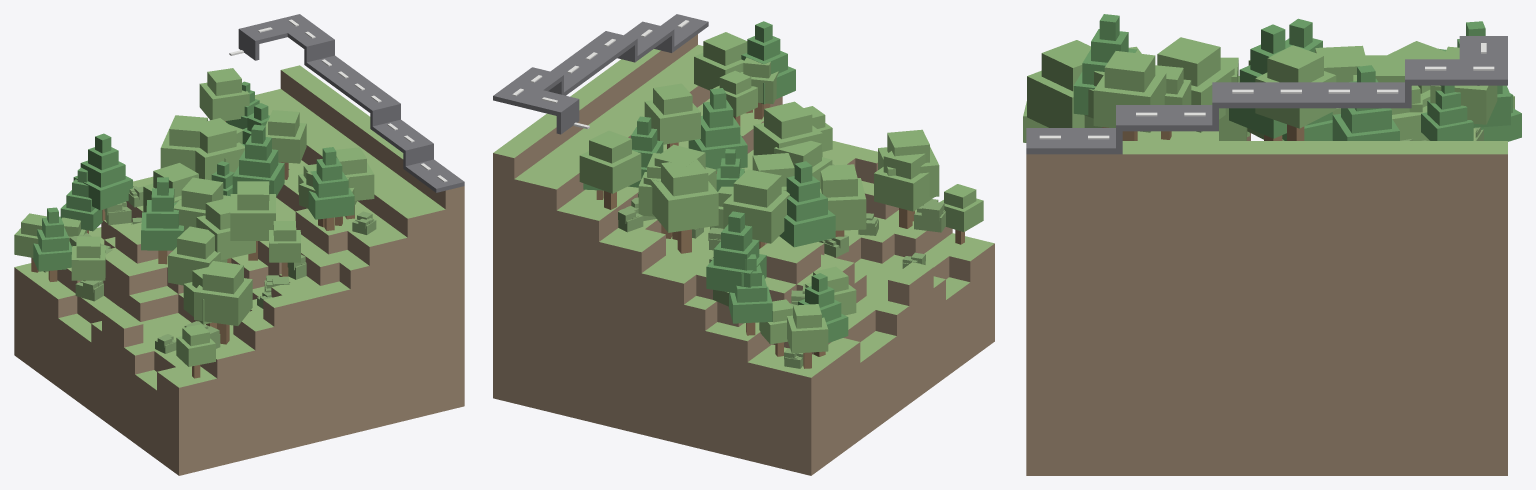
Rendered from block_10_riparian_100.glb.
The picture shows the model from 3 angles, left to right: view 1: azimuth 30°, elevation 25°; view 2: azimuth 150°, elevation 25°; view 3: azimuth 270°, elevation 25°; orthographic projection. The views are drawn at different scales.
Parts seen in each view (by area): view 1: Patch_LowerLeft_b10_RP, Roads_LowerLeft_b10_RP, RP_Veg_10_020, RP_Veg_10_038, RP_Veg_10_041, RP_Veg_10_050, RP_Veg_10_014, RP_Veg_10_030, RP_Veg_10_023, RP_Veg_10_026, RP_Veg_10_008, RP_Veg_10_047 (+18 smaller); view 2: Patch_LowerLeft_b10_RP, Roads_LowerLeft_b10_RP, RP_Veg_10_015, RP_Veg_10_032, RP_Veg_10_026, RP_Veg_10_014, RP_Veg_10_041, RP_Veg_10_004, RP_Veg_10_030, RP_Veg_10_003, RP_Veg_10_038, RP_Veg_10_008 (+20 smaller); view 3: Patch_LowerLeft_b10_RP, Roads_LowerLeft_b10_RP, RP_Veg_10_020, RP_Veg_10_012, RP_Veg_10_003, RP_Veg_10_038, RP_Veg_10_030, RP_Veg_10_040, RP_Veg_10_050, RP_Veg_10_017, RP_Veg_10_026, RP_Veg_10_032 (+10 smaller).
Part boxes in pixels (x1=…): Patch_LowerLeft_b10_RP: x1=14, y1=65, x2=464, y2=475; Roads_LowerLeft_b10_RP: x1=238, y1=14, x2=464, y2=192; RP_Veg_10_020: x1=194, y1=261, x2=252, y2=344; RP_Veg_10_038: x1=230, y1=181, x2=275, y2=260; RP_Veg_10_041: x1=73, y1=133, x2=132, y2=220; RP_Veg_10_050: x1=308, y1=147, x2=354, y2=230; RP_Veg_10_014: x1=141, y1=177, x2=183, y2=264; RP_Veg_10_030: x1=232, y1=124, x2=284, y2=196; RP_Veg_10_023: x1=191, y1=118, x2=244, y2=180; RP_Veg_10_026: x1=199, y1=68, x2=249, y2=121; RP_Veg_10_008: x1=168, y1=226, x2=227, y2=285; RP_Veg_10_047: x1=32, y1=207, x2=71, y2=281; Patch_LowerLeft_b10_RP: x1=493, y1=34, x2=994, y2=475; Roads_LowerLeft_b10_RP: x1=493, y1=14, x2=708, y2=134; RP_Veg_10_015: x1=650, y1=159, x2=718, y2=253; RP_Veg_10_032: x1=723, y1=169, x2=789, y2=248; RP_Veg_10_026: x1=579, y1=130, x2=641, y2=209; RP_Veg_10_014: x1=779, y1=161, x2=835, y2=247; RP_Veg_10_041: x1=706, y1=211, x2=766, y2=293; RP_Veg_10_004: x1=874, y1=151, x2=934, y2=228; RP_Veg_10_030: x1=688, y1=88, x2=747, y2=173; RP_Veg_10_003: x1=644, y1=83, x2=700, y2=148; RP_Veg_10_038: x1=753, y1=101, x2=822, y2=156; RP_Veg_10_008: x1=820, y1=164, x2=866, y2=236; Patch_LowerLeft_b10_RP: x1=1026, y1=129, x2=1507, y2=475; Roads_LowerLeft_b10_RP: x1=1026, y1=36, x2=1507, y2=154; RP_Veg_10_020: x1=1027, y1=40, x2=1090, y2=127; RP_Veg_10_012: x1=1093, y1=51, x2=1166, y2=140; RP_Veg_10_003: x1=1255, y1=45, x2=1336, y2=140; RP_Veg_10_038: x1=1157, y1=37, x2=1234, y2=132; RP_Veg_10_030: x1=1229, y1=24, x2=1315, y2=140; RP_Veg_10_040: x1=1332, y1=65, x2=1399, y2=140; RP_Veg_10_050: x1=1073, y1=14, x2=1137, y2=127; RP_Veg_10_017: x1=1421, y1=85, x2=1473, y2=140; RP_Veg_10_026: x1=1430, y1=46, x2=1497, y2=124; RP_Veg_10_032: x1=1315, y1=45, x2=1365, y2=82.
Size of the model in its own units: 9.75 by 8.66 by 9.84.
